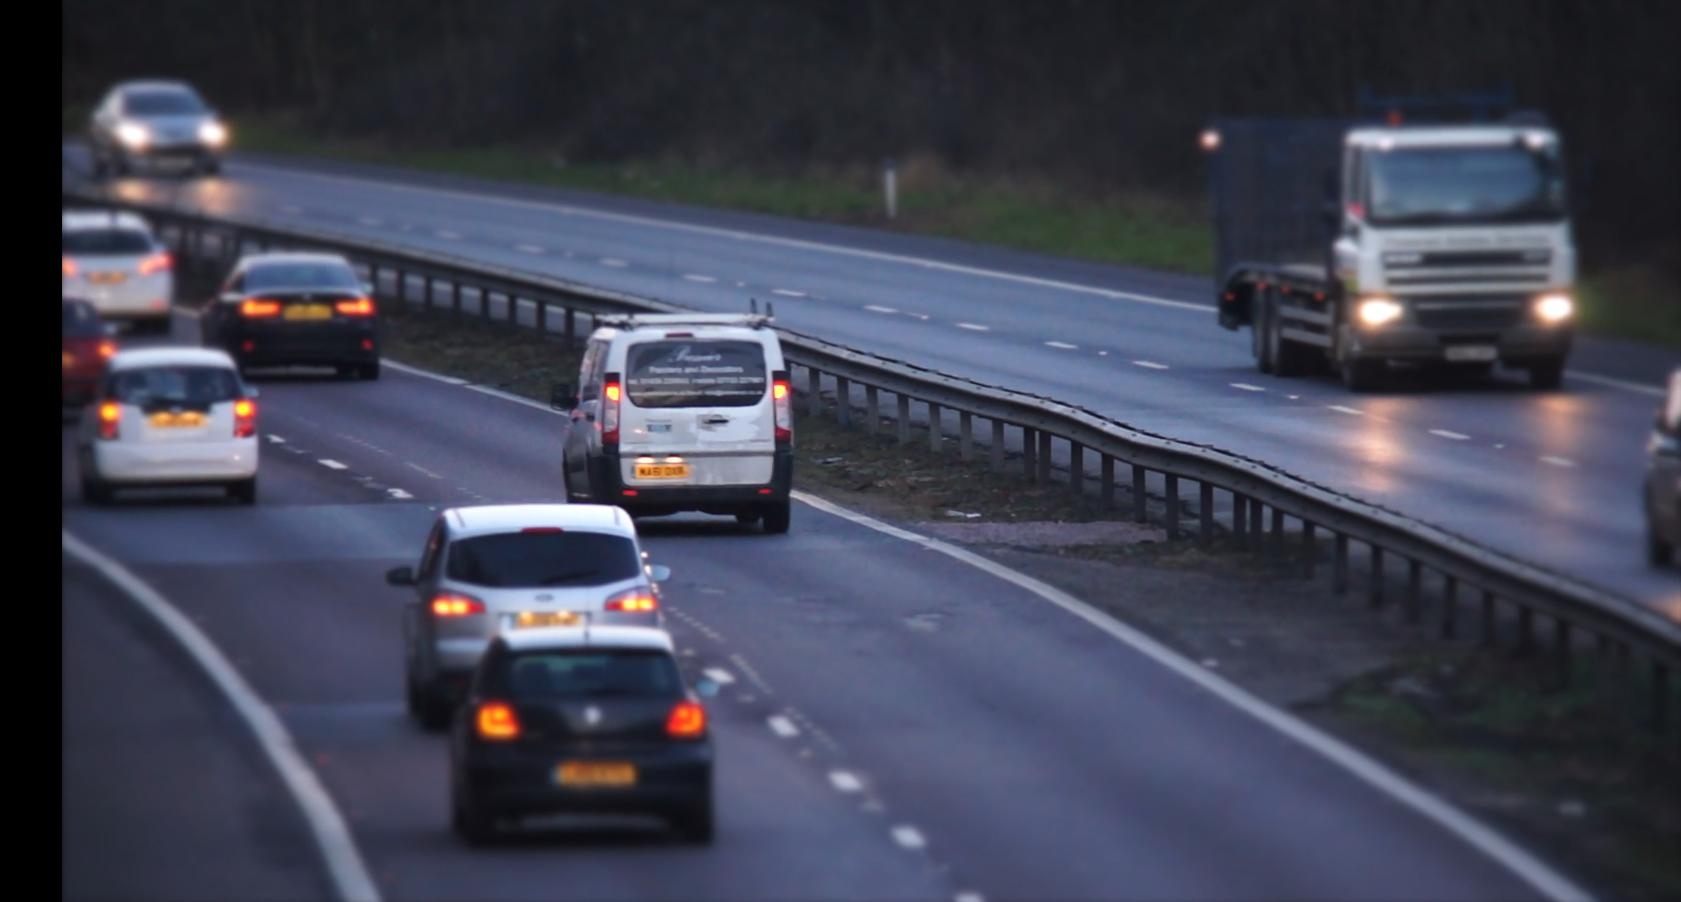car: (483, 633, 780, 870), (416, 456, 718, 643), (210, 237, 416, 402), (84, 62, 301, 202)
truck: (1192, 95, 1662, 417)
van: (580, 295, 871, 544)
